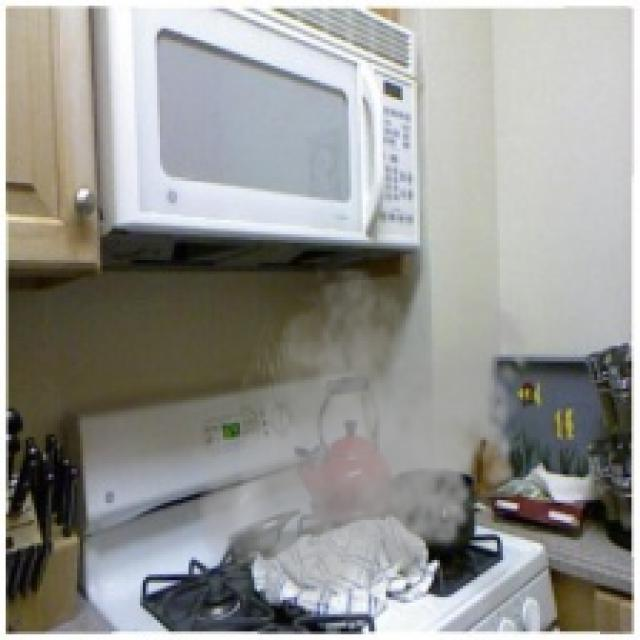smoke: (189, 266, 540, 623)
